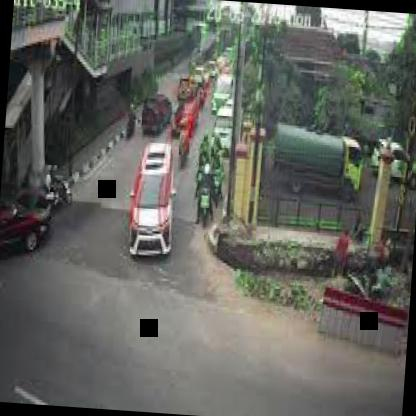car: (125, 133, 192, 276), (0, 184, 67, 262), (140, 90, 178, 148), (210, 102, 241, 148)
